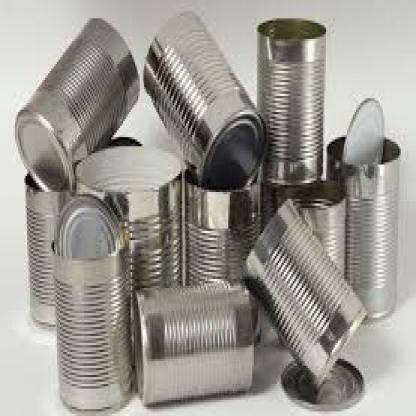Compsot: (240, 197, 369, 393), (74, 144, 183, 368), (141, 7, 266, 187), (12, 16, 138, 187), (131, 276, 254, 407), (48, 229, 132, 414), (326, 132, 398, 327), (183, 167, 260, 345), (252, 16, 323, 187), (275, 176, 344, 286), (24, 174, 59, 329), (279, 356, 365, 407), (54, 197, 119, 258), (339, 96, 383, 178)
